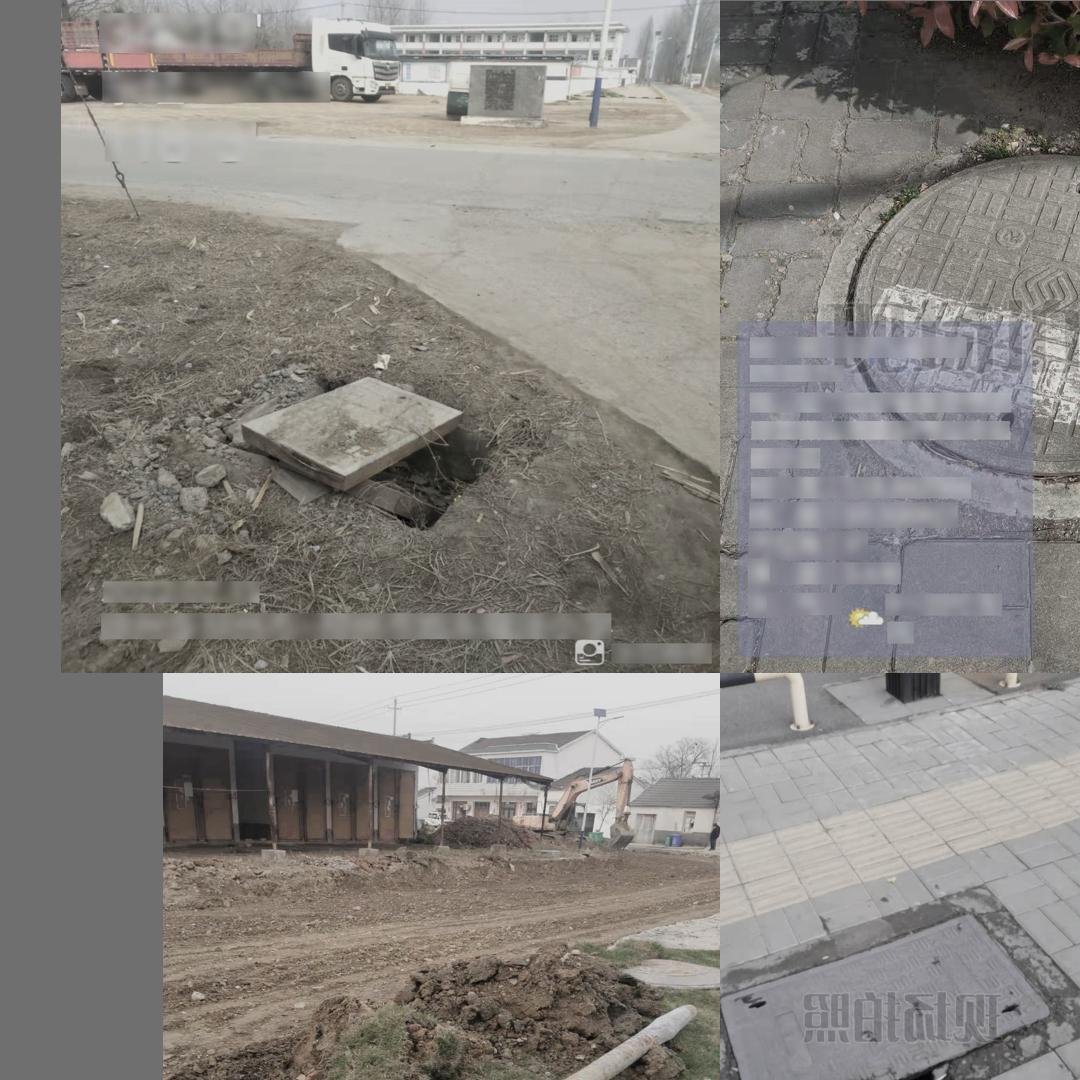circle: (839, 137, 1080, 504), (720, 885, 1078, 1080), (205, 358, 513, 544)
